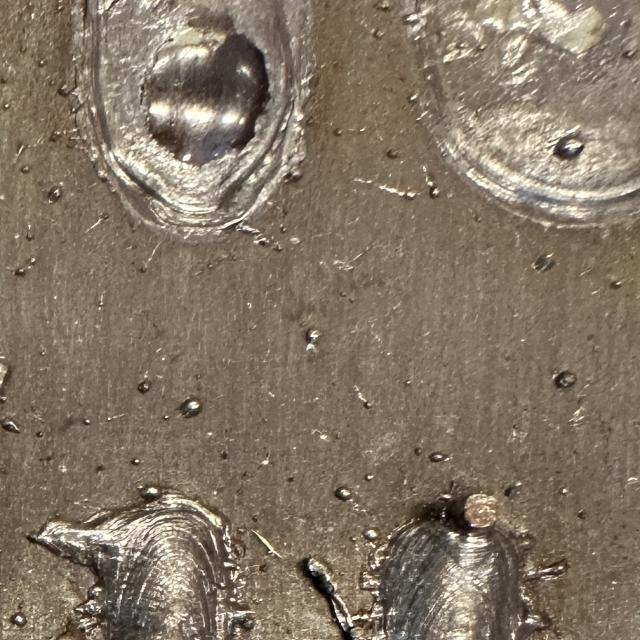Spatters: (624, 48, 638, 59)
